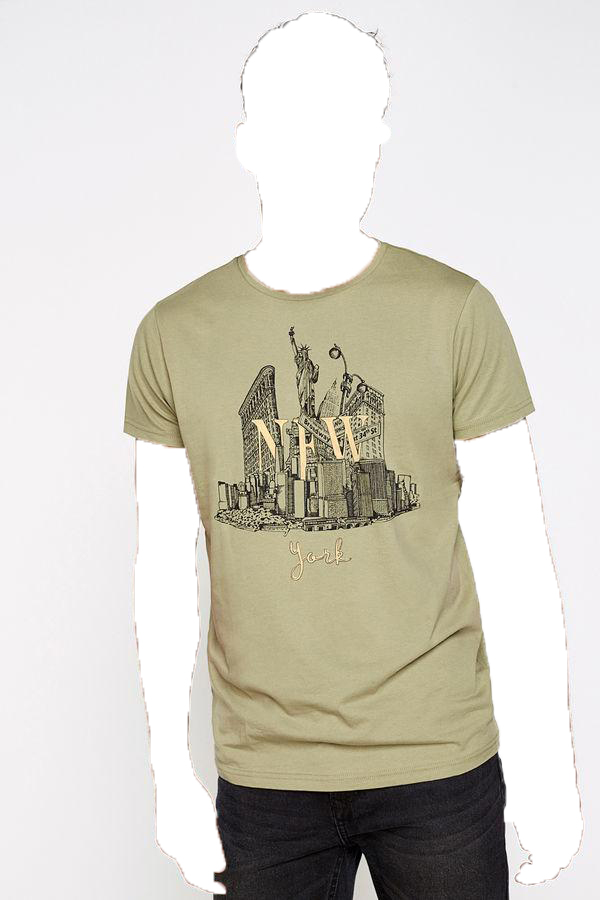teeshirt: (116, 230, 561, 799)
